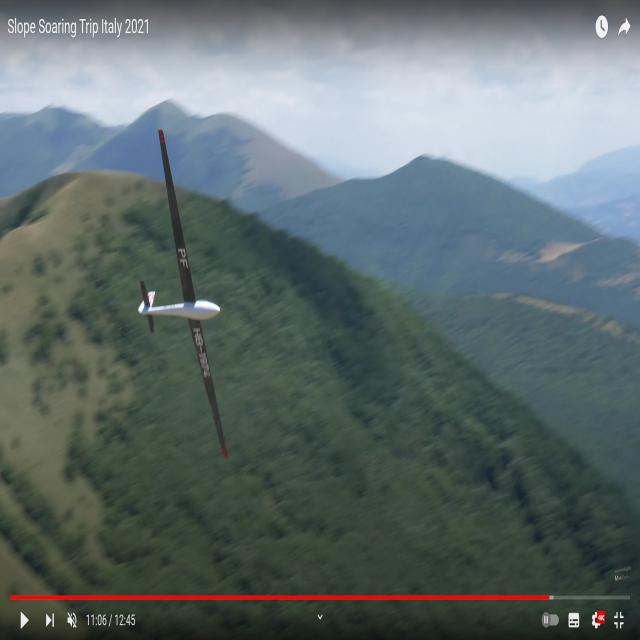iha: (169, 134, 197, 456)
